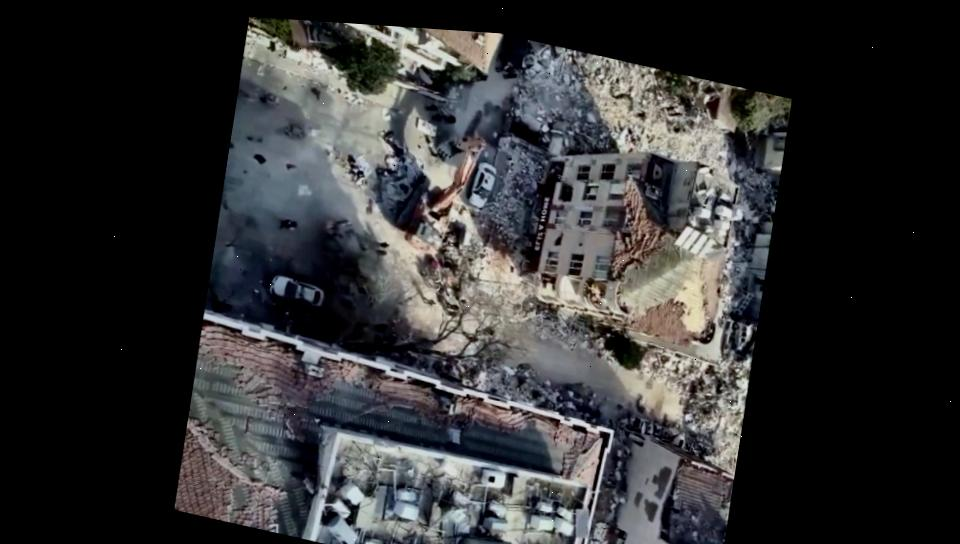kapali: (633, 343, 749, 450)
